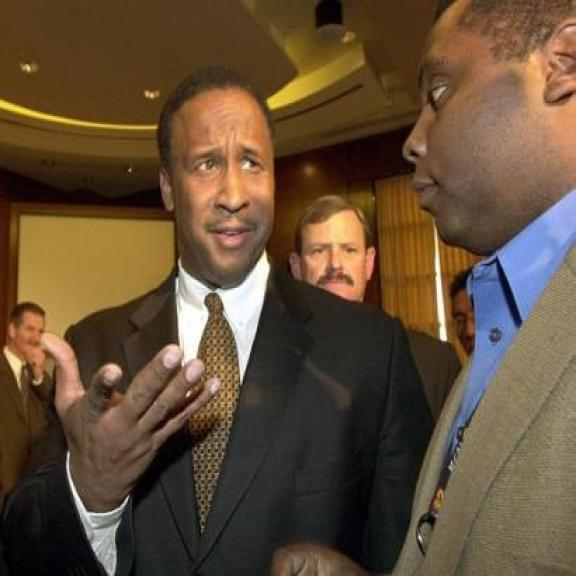face: (400, 3, 576, 258), (156, 98, 278, 293), (286, 211, 381, 305), (450, 288, 484, 363), (9, 305, 50, 361)
